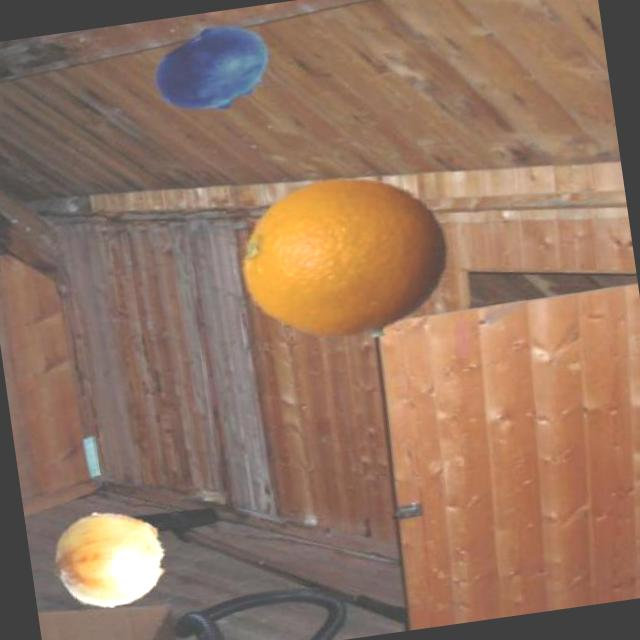Orange: (228, 164, 464, 356)
